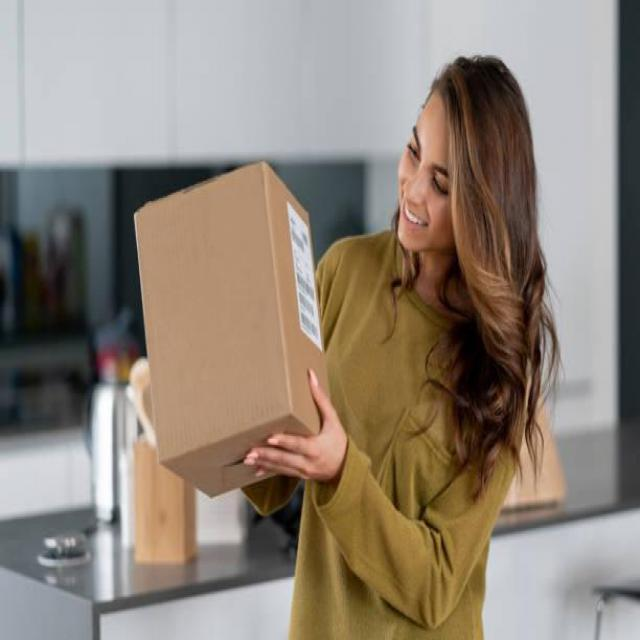box: (128, 162, 334, 500)
